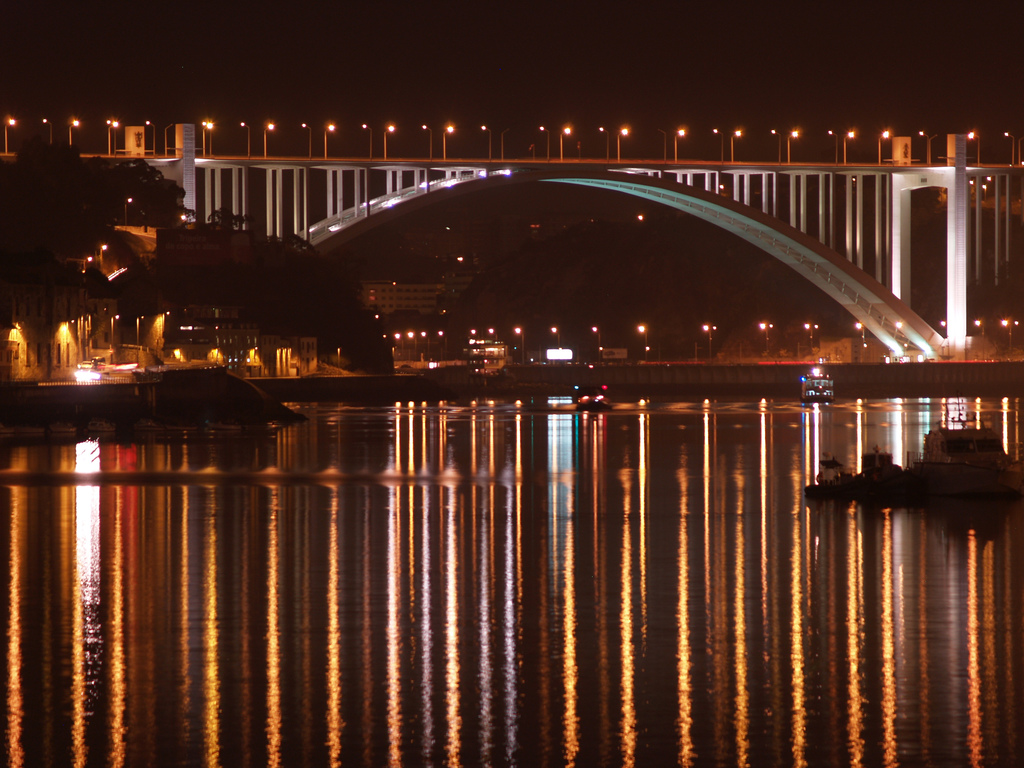arrabida: (74, 111, 1023, 364)
